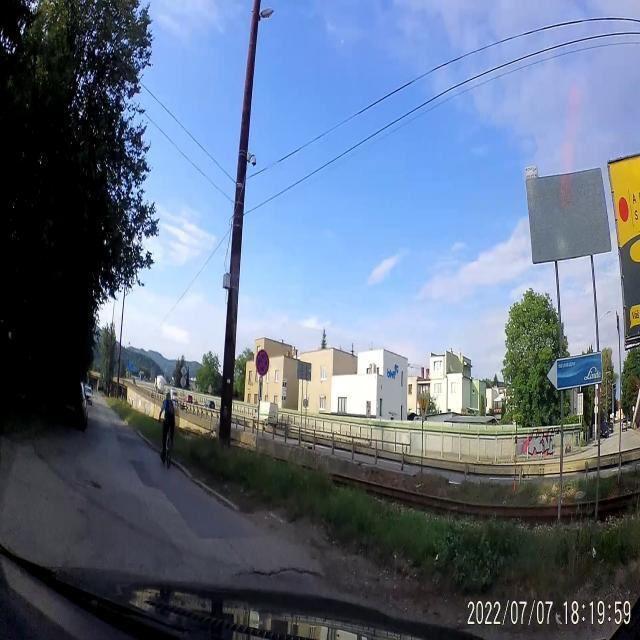Pothole: (231, 561, 322, 597), (82, 469, 102, 491)
